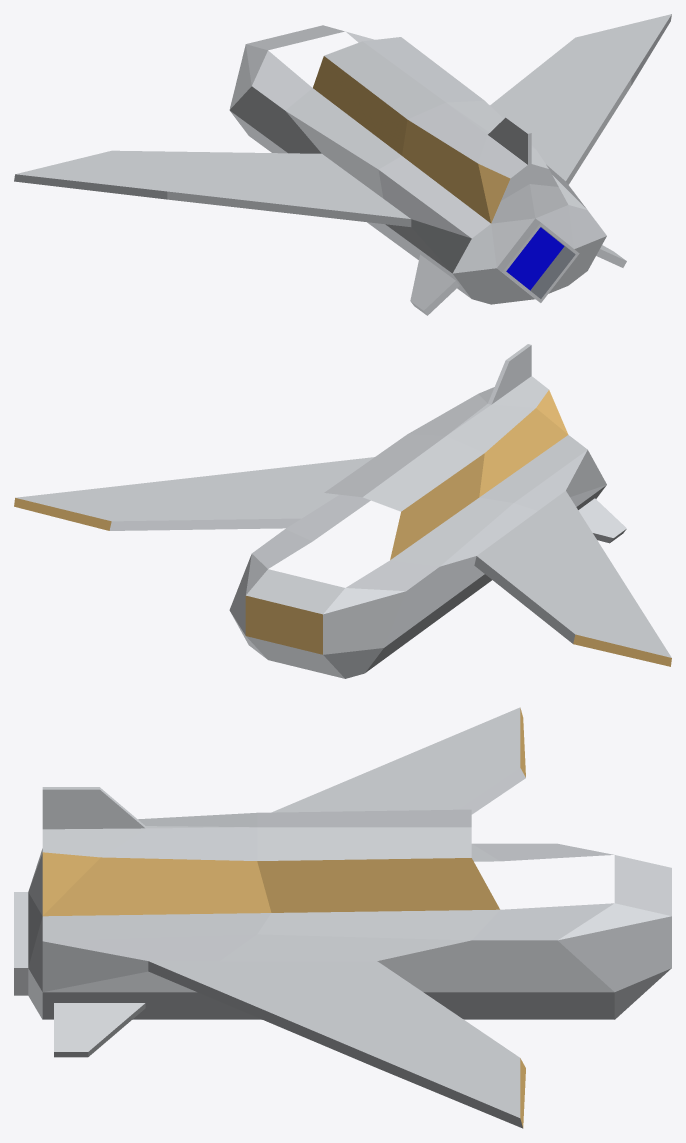
File: uni_1st.glb
3 views of the same model, one above another, from view 1: azimuth 30°, elevation 25°; view 2: azimuth 150°, elevation 25°; view 3: azimuth 270°, elevation 25° (orthographic). The views are drawn at different scales.
Visible parts, largest first — view 1: 1st; view 2: 1st; view 3: 1st.
Boxes of the visible parts, box(x1,y1,x2,y2) form: 1st: box(14, 14, 671, 315); 1st: box(14, 344, 671, 678); 1st: box(14, 707, 671, 1128).
Bounding box in the file's own units: 34 × 8.01 × 23.
